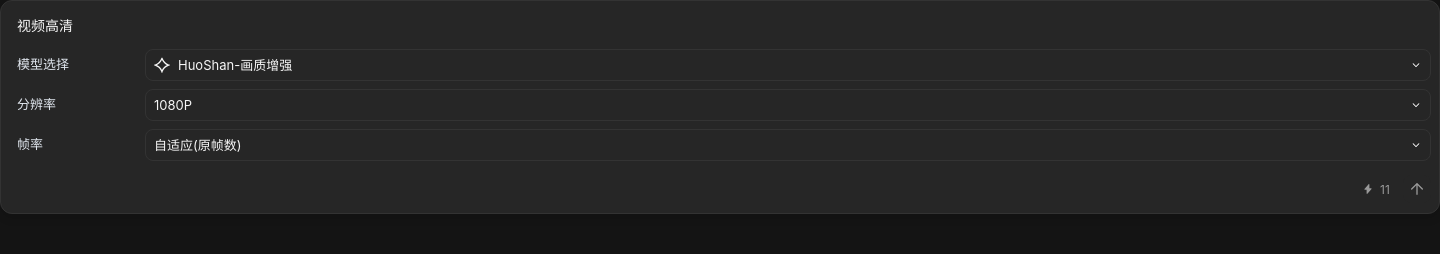
Test: VideoHDPanel › opens resolution dropdown menu and renders inside panel container
Click the button with test id "hd-resolution-trigger" at (173, 105), box [145,89,1431,121]
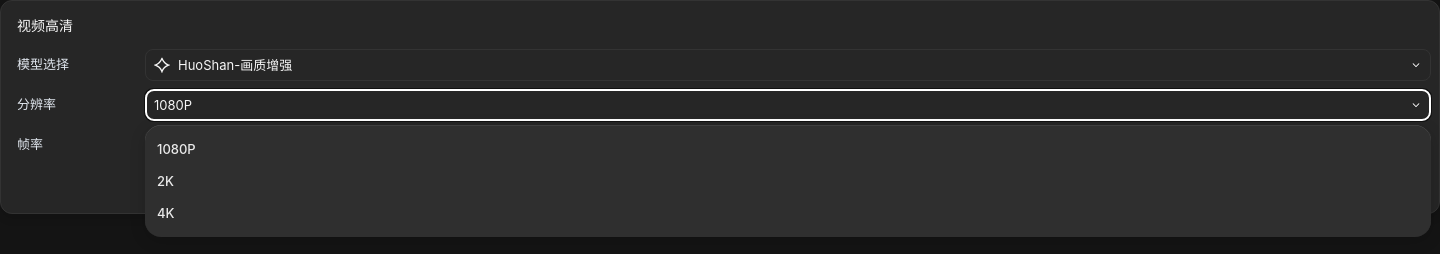
Check: the button "2K" is shown, box [149,165,1427,197]
Check: the button "4K" is shown, box [149,197,1427,229]
